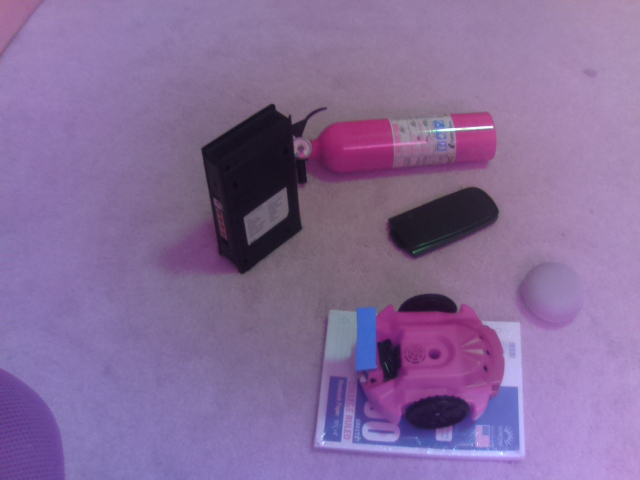board: (352, 302, 379, 381)
chassis: (347, 288, 512, 430)
